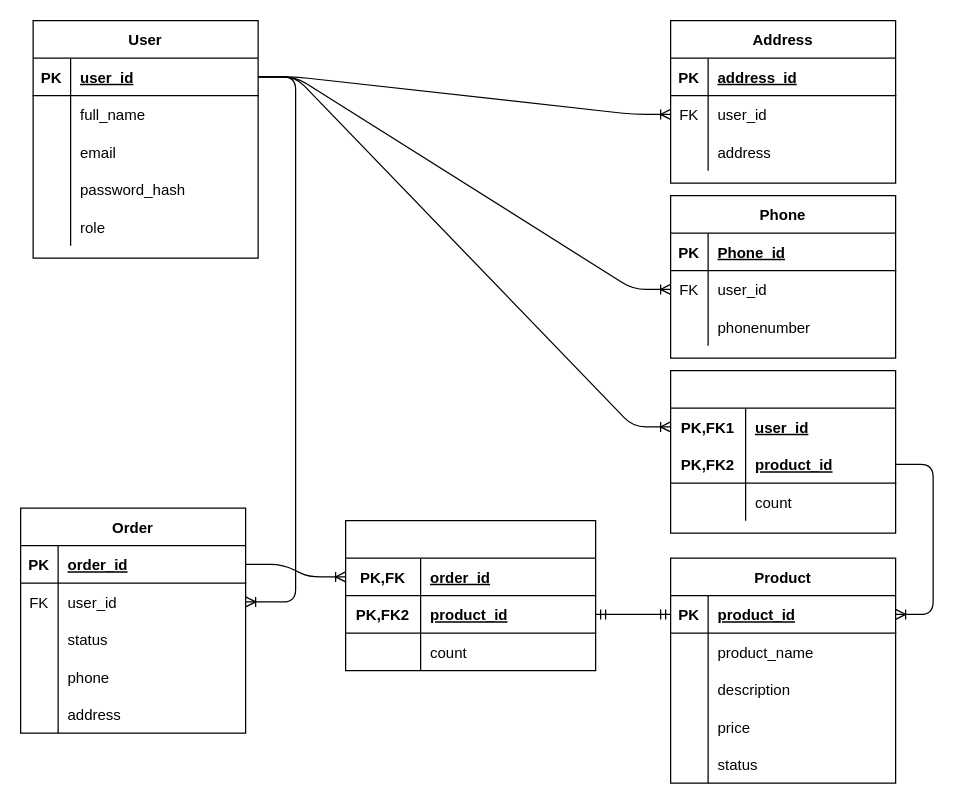
Some shapes in this 954 by 804 pixel diagram are drawn without their labels. The box of each missing label's shape, as (x1, y1, x2, y2) in pixels:
Cart: (669, 369, 896, 533)
OrderProduct: (344, 519, 596, 671)
